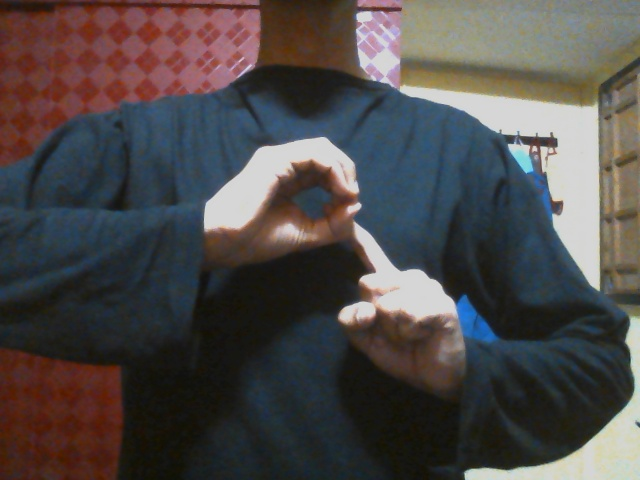Q: (210, 135, 461, 413)
